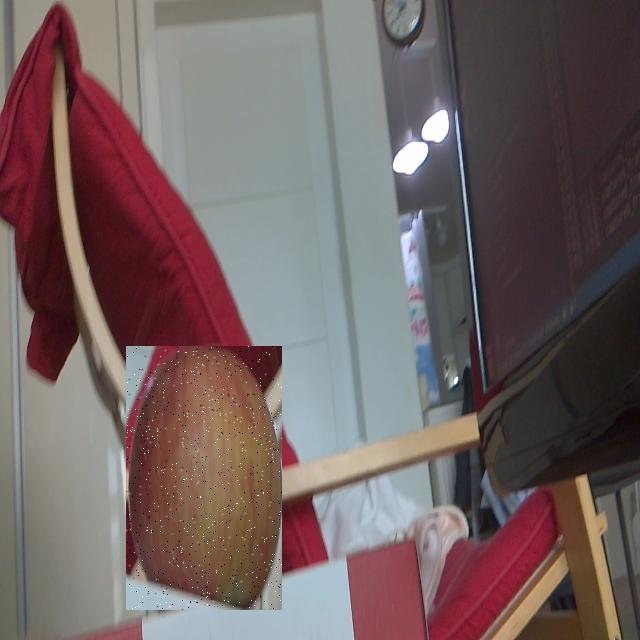apple: (126, 346, 282, 610)
